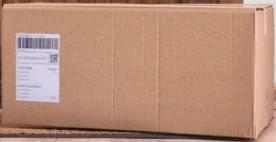stock: (1, 3, 276, 137)
